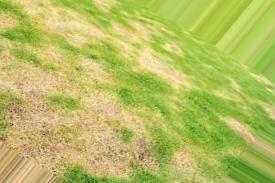patch: (70, 90, 125, 127), (10, 73, 52, 96), (73, 146, 107, 168), (145, 60, 179, 78), (62, 23, 87, 42), (176, 156, 192, 163)
